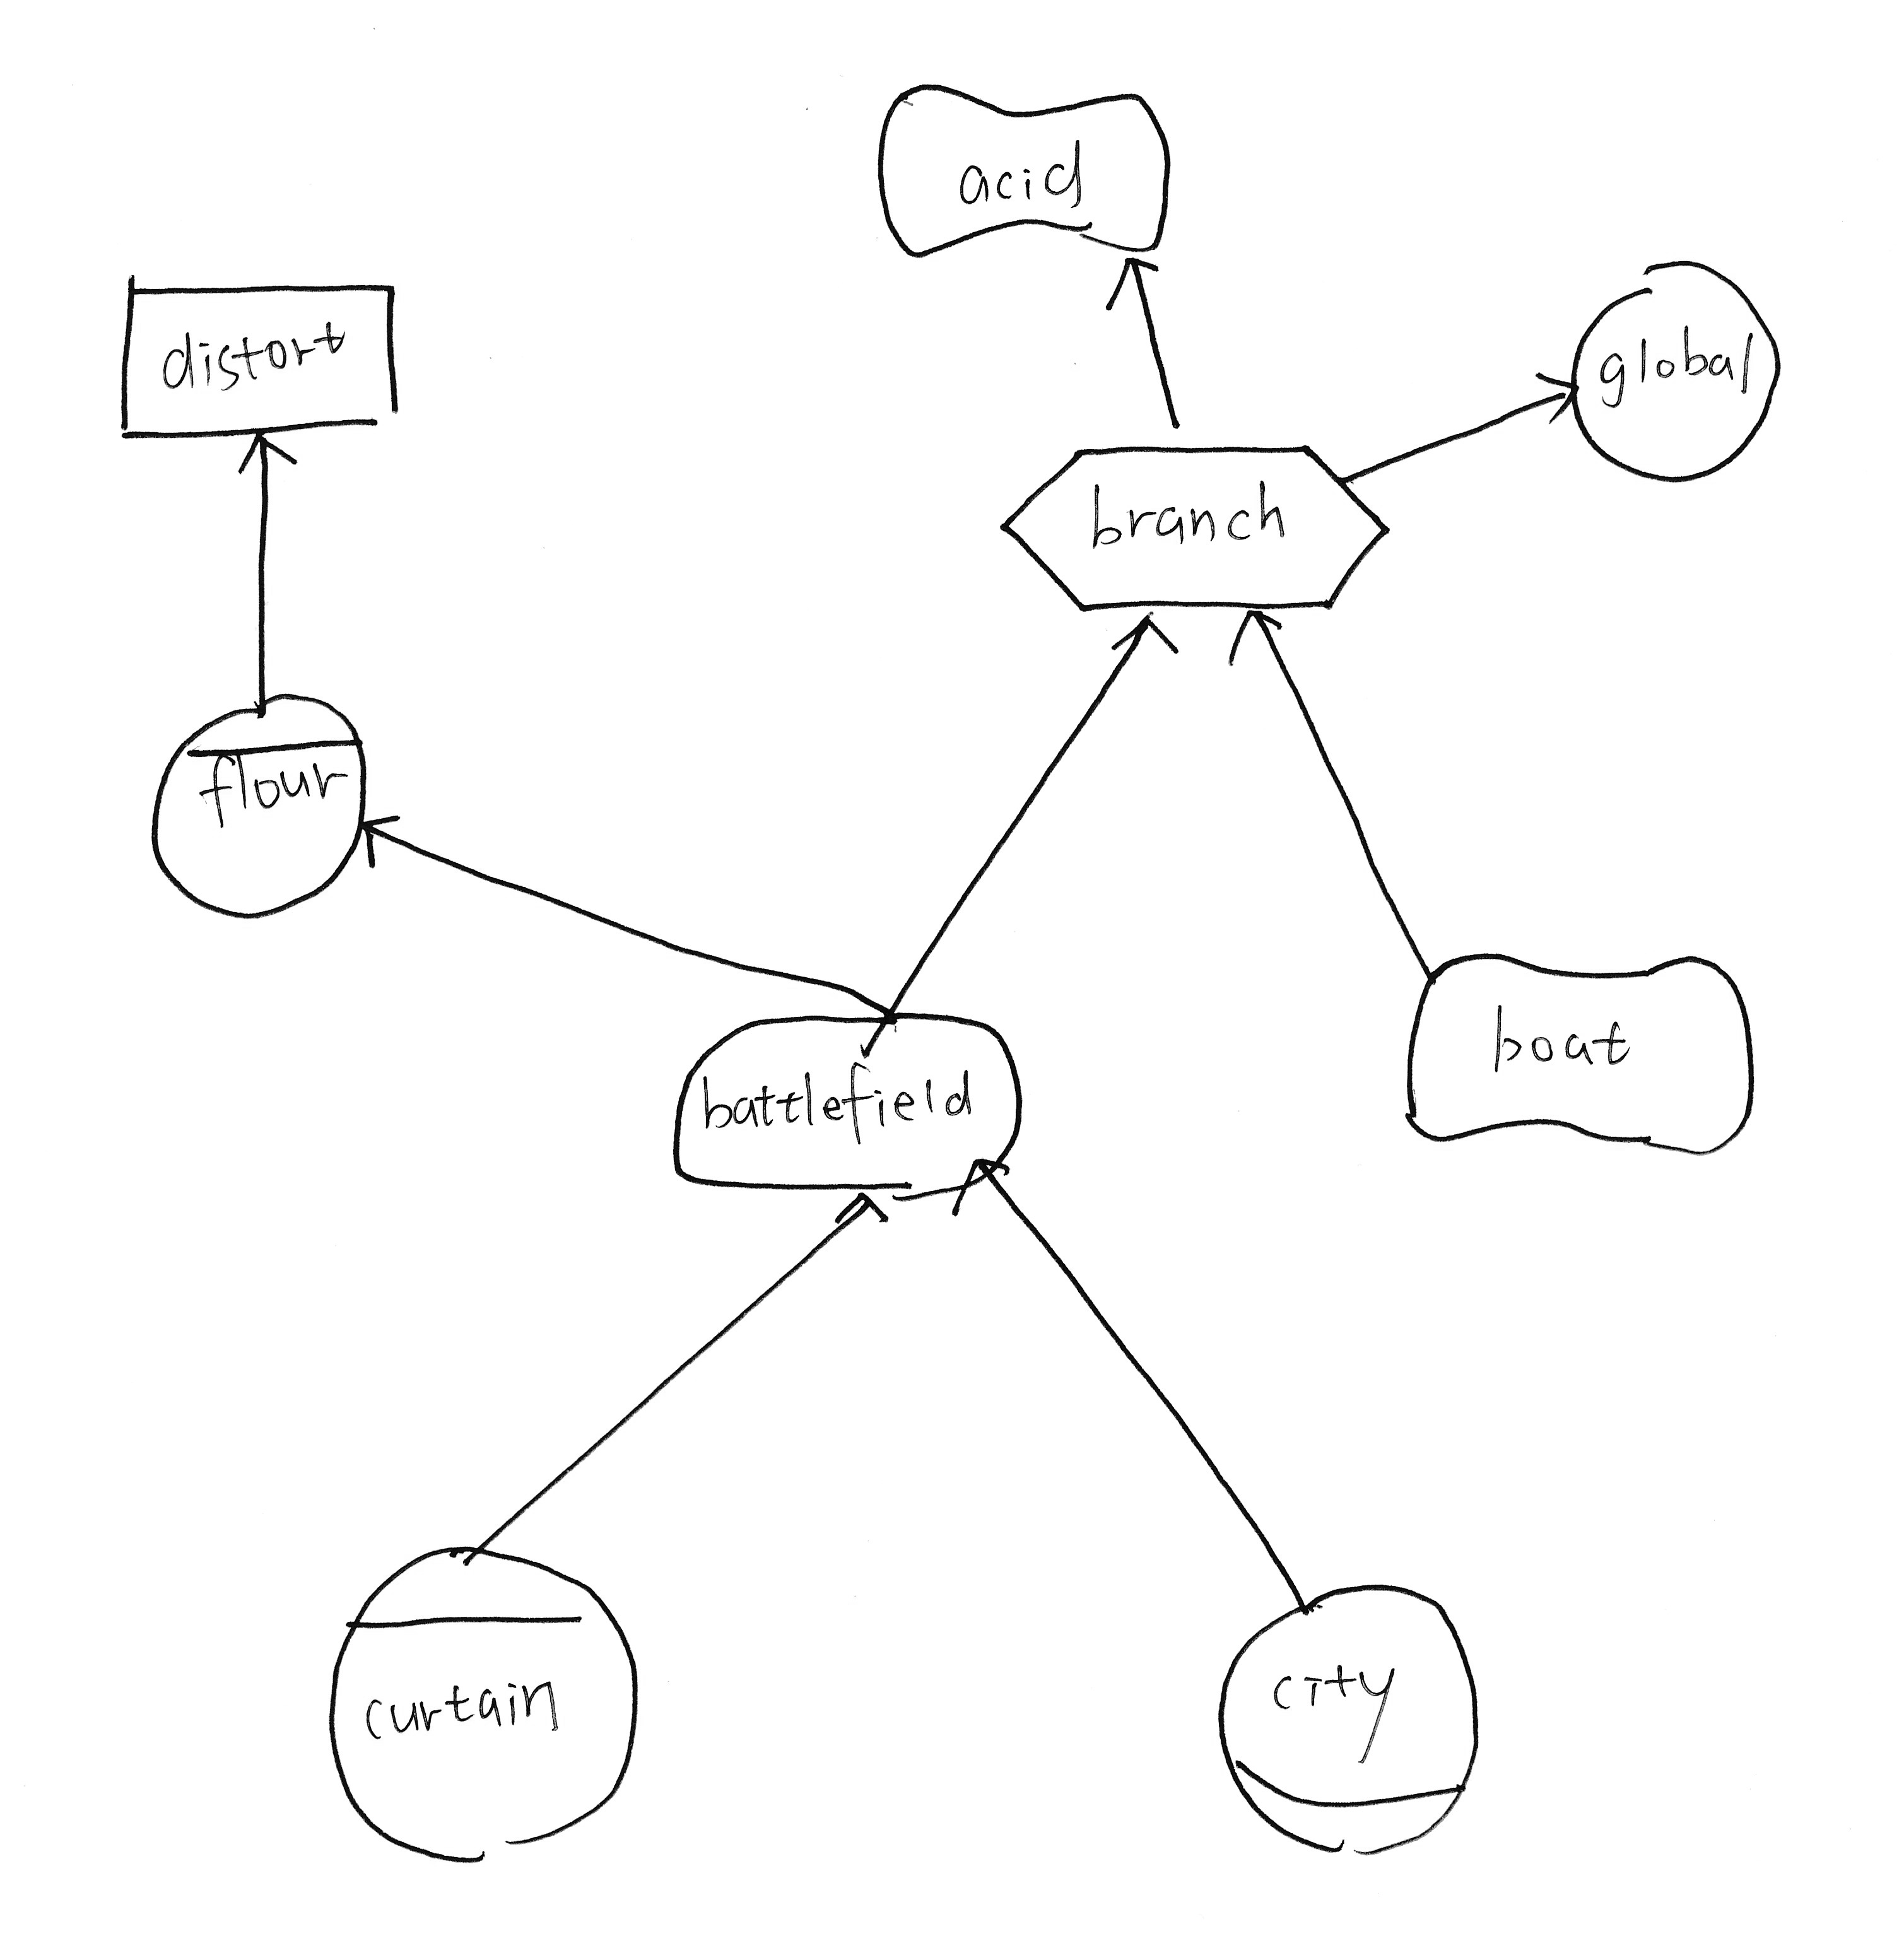actor: (1552, 242, 1799, 501)
agent: (309, 1521, 657, 1880), (134, 677, 391, 935)
arrow: (1090, 602, 1191, 677), (1527, 345, 1601, 446), (1219, 588, 1304, 673), (945, 1144, 1027, 1231), (821, 1174, 907, 1256), (216, 417, 309, 490), (1093, 234, 1172, 317), (342, 797, 410, 875)
goal: (650, 992, 1046, 1226)
quality: (1384, 930, 1777, 1177), (854, 65, 1193, 277)
resource: (101, 258, 425, 459)
role: (1205, 1561, 1496, 1875)
task: (987, 419, 1402, 630)
